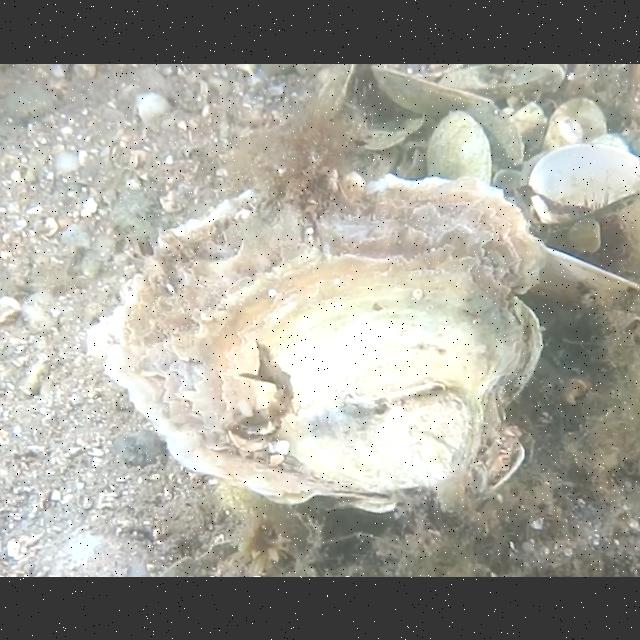Oyster-Closed: (86, 169, 548, 513)
